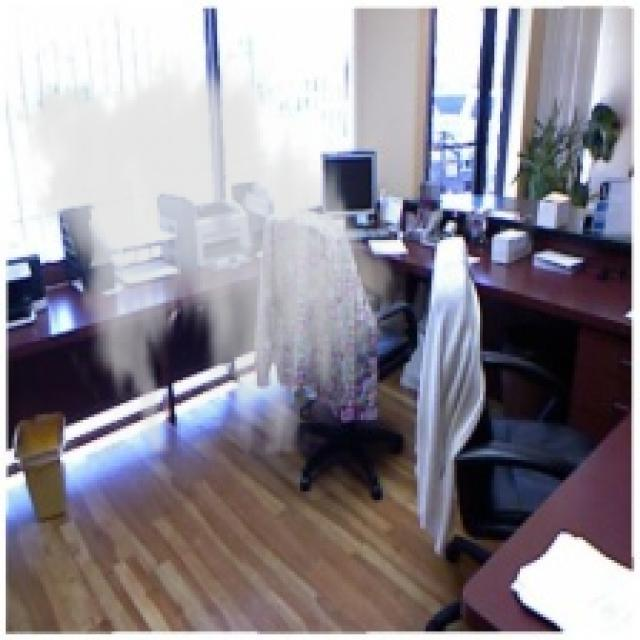smoke: (8, 52, 406, 454)
